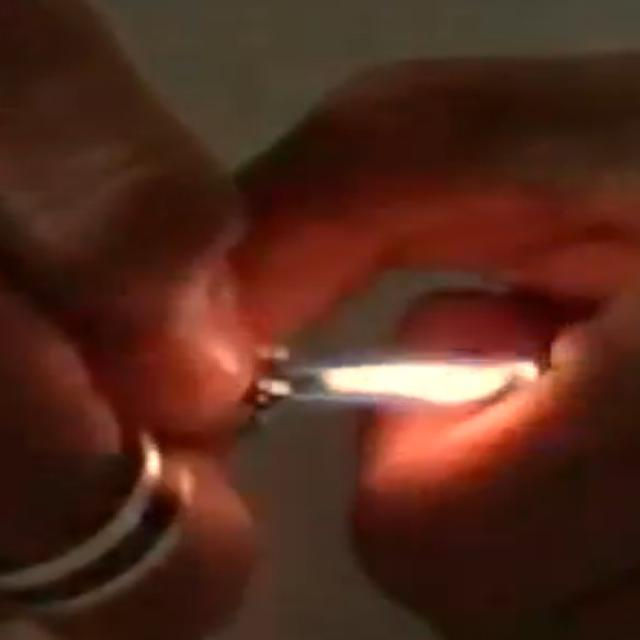fire: (295, 360, 537, 403)
